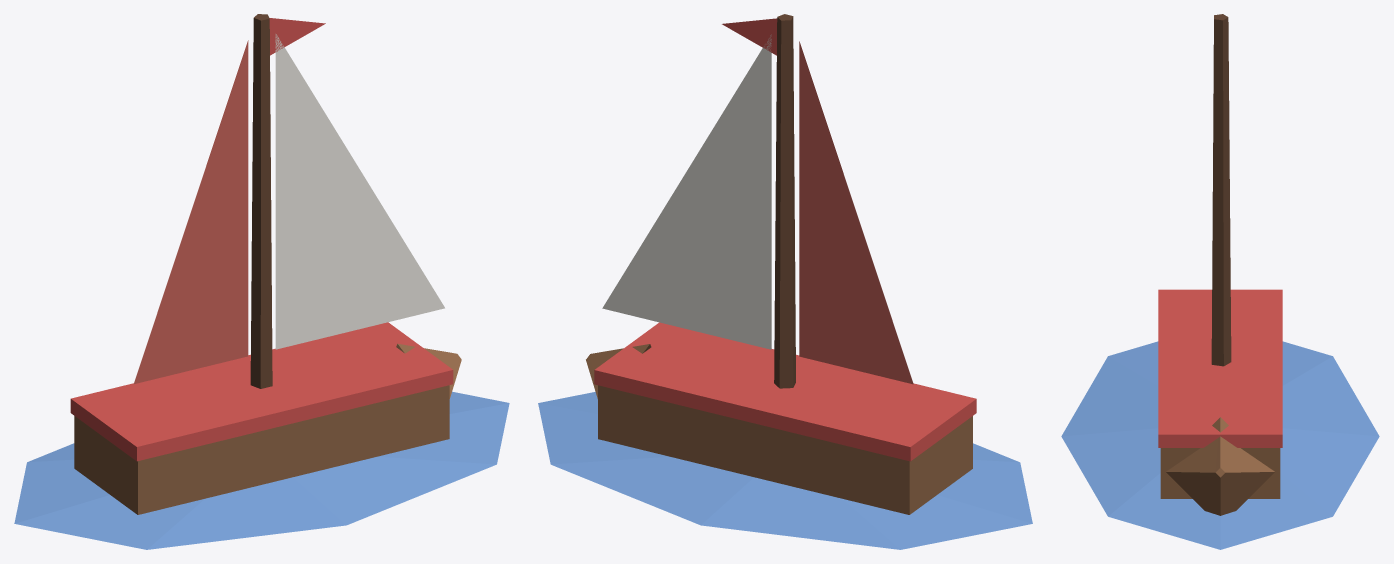
The model's file is deco_sailboat.obj.
The picture shows the model from 3 angles, left to right: view 1: azimuth 30°, elevation 25°; view 2: azimuth 150°, elevation 25°; view 3: azimuth 270°, elevation 25°; orthographic projection. The views are drawn at different scales.
Visible parts, largest first — view 1: deco_sailboat; view 2: deco_sailboat; view 3: deco_sailboat.
Boxes of the visible parts, bbox=[...] form: deco_sailboat: bbox=[14, 14, 509, 549]; deco_sailboat: bbox=[538, 14, 1032, 549]; deco_sailboat: bbox=[1061, 14, 1379, 549].
Size of the model in its own units: 0.054 by 0.048 by 0.032.
1 material, 1 textured.
